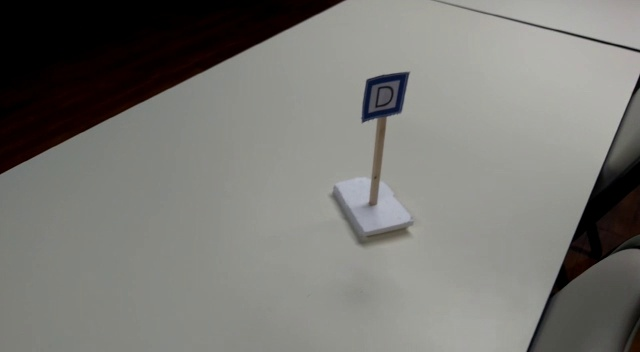durak: (361, 72, 406, 120)
